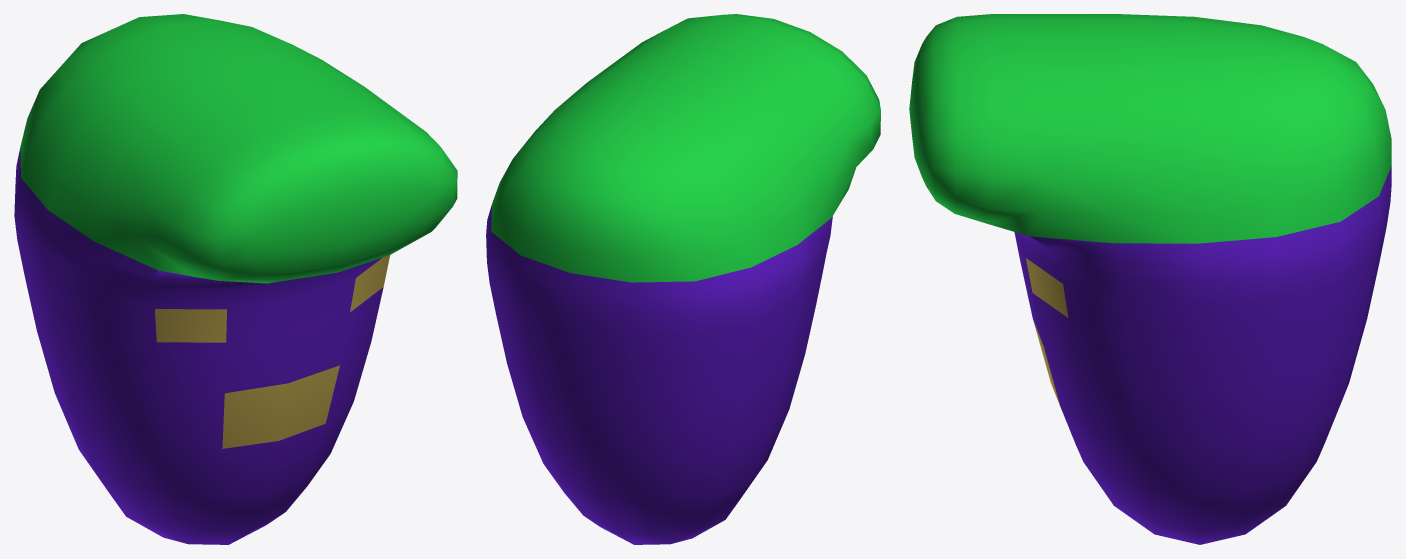
Rendered from monster_1.fbx.
3 views of the same model, side by side, from view 1: azimuth 30°, elevation 25°; view 2: azimuth 150°, elevation 25°; view 3: azimuth 270°, elevation 25° (orthographic). The views are drawn at different scales.
Parts seen in each view (by area): view 1: monster_1; view 2: monster_1; view 3: monster_1.
Boxes of the visible parts, x1,y1,x2,y2 form: monster_1: (14, 14, 457, 544); monster_1: (486, 14, 880, 544); monster_1: (909, 14, 1391, 544).
Bounding box in the file's own units: 130 × 188 × 165.
